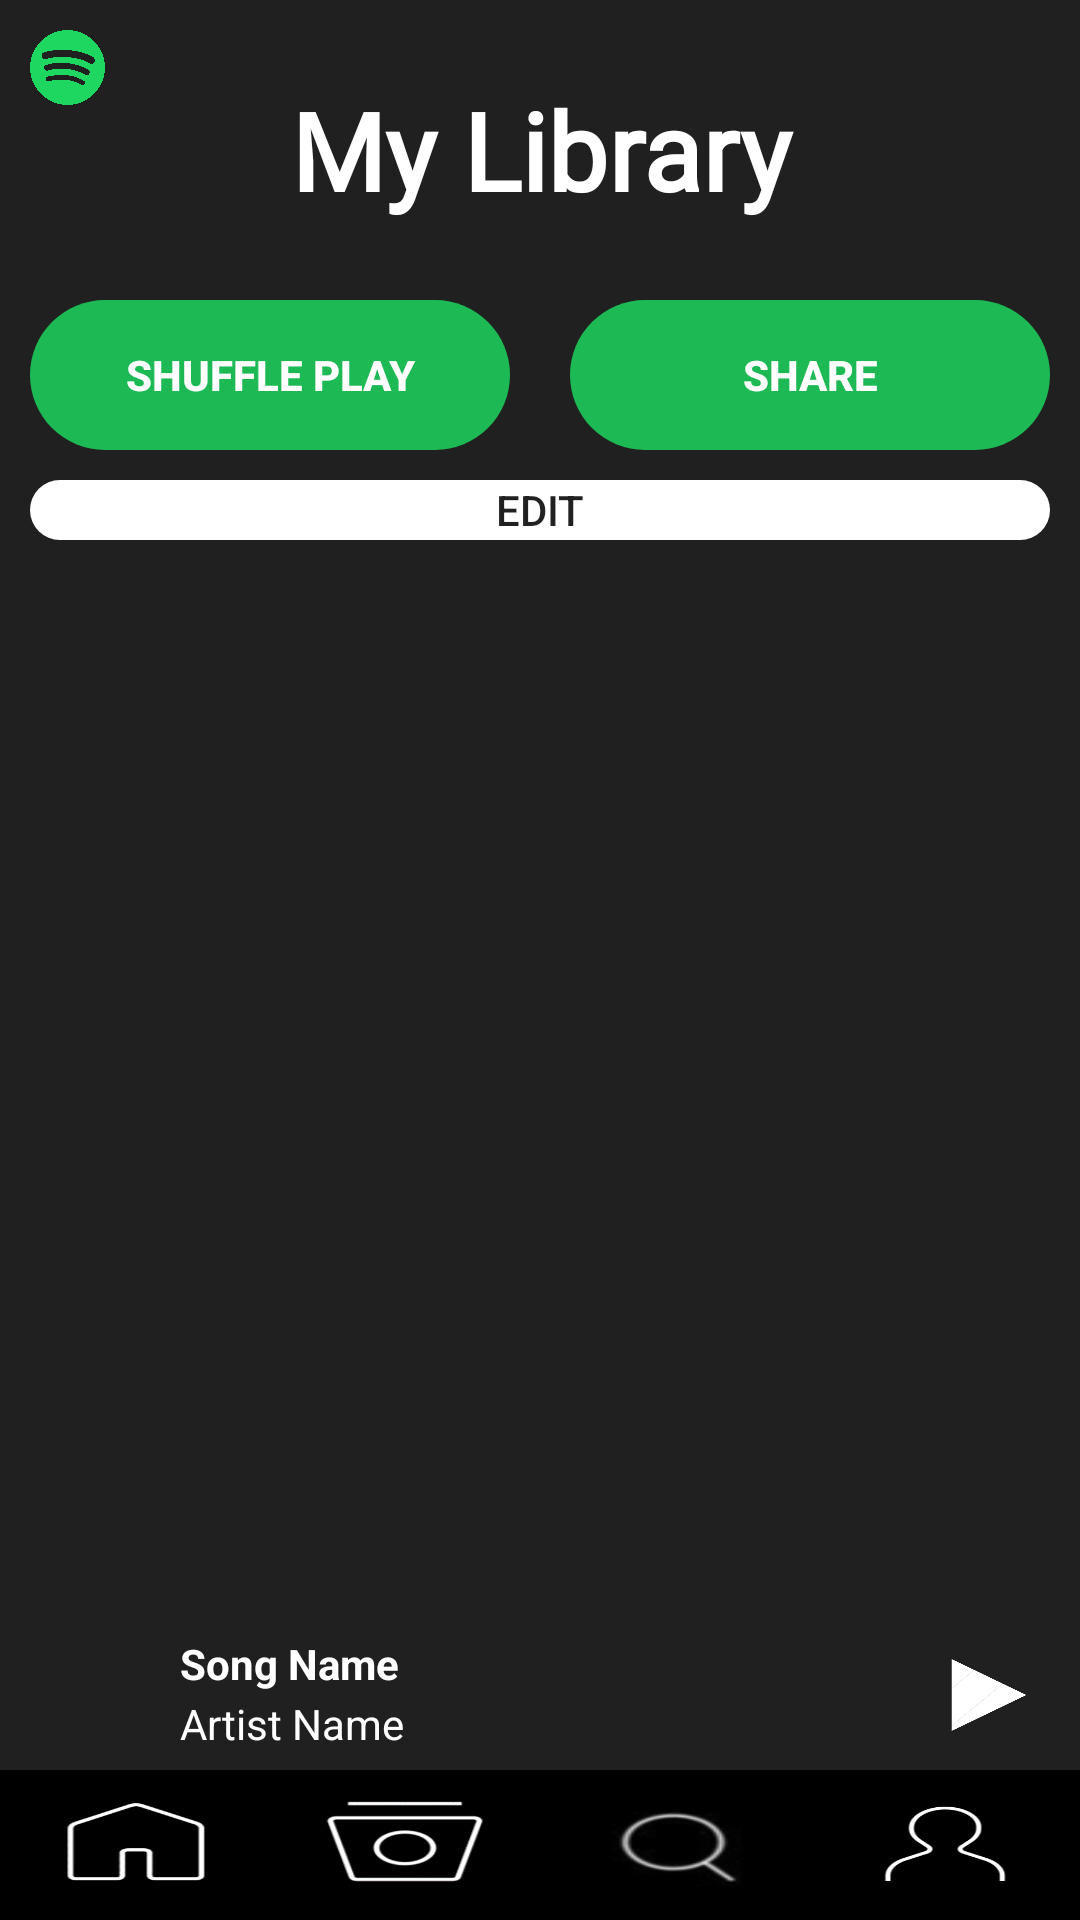

Locate icon controls on the screen. Image size 1080px×1920px, boxes as (x1, y1, x2, y2).
home: (67, 1803, 205, 1881)
search: (620, 1813, 736, 1882)
